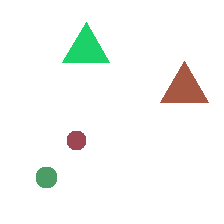circle: (36, 167, 56, 187), (67, 131, 85, 149)
triangle: (160, 61, 208, 102), (62, 22, 109, 62)
